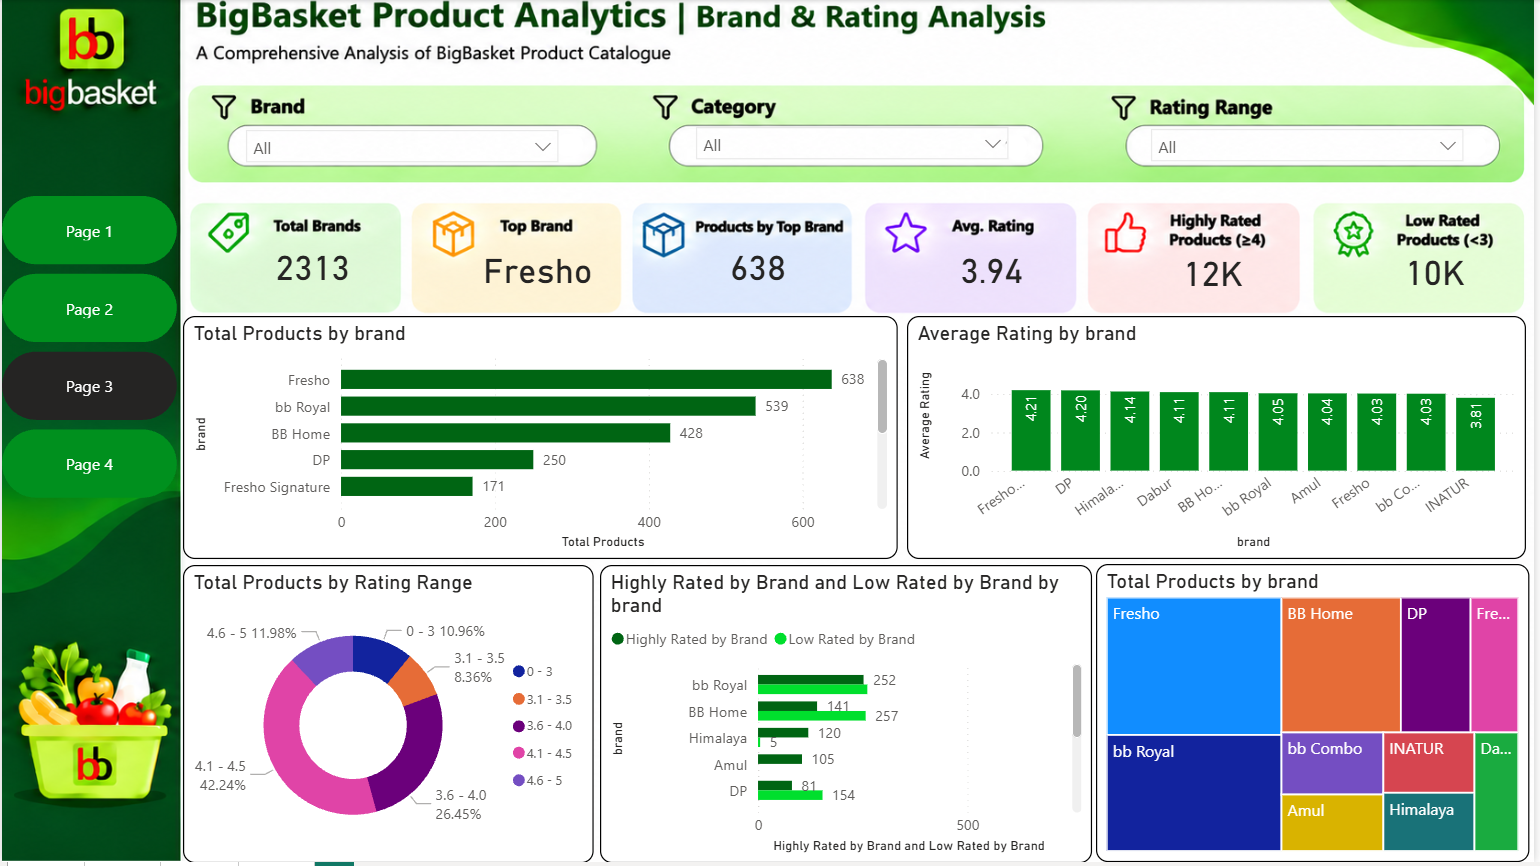

The dashboard page shown, as its layout file describes it:
{"tool":"powerbi","page":{"name":"Page 3","canvas":[1280,720],"ordinal":2},"visuals":[{"type":"card","fields":{"Values":["DAX_Measures.Total Brands"]},"box":[202.1,194.9,115,54.9],"z":0},{"type":"card","fields":{"Values":["DAX_Measures.Low Rated Products"]},"box":[1139,201.1,115,48.7],"z":1000},{"type":"card","fields":{"Values":["DAX_Measures.Top Brand"]},"box":[389.7,196.9,115,54.9],"z":2000},{"type":"card","fields":{"Values":["DAX_Measures.Products by Top Brand"]},"box":[574.2,194.9,115,54.9],"z":3000},{"type":"card","fields":{"Values":["DAX_Measures.Average Rating"]},"box":[769,196.9,115,54.9],"z":4000},{"type":"card","fields":{"Values":["DAX_Measures.Highly Rated Products"]},"box":[953.5,203.1,115,47.7],"z":5000},{"type":"clusteredBarChart","fields":{"Category":["Products.brand"],"Y":["DAX_Measures.Total Products"]},"box":[151.3,264.3,597,203.1],"z":6000},{"type":"clusteredColumnChart","fields":{"Category":["Products.brand"],"Y":["DAX_Measures.Average Rating"]},"box":[755.6,264.3,517.2,203.1],"z":7000},{"type":"treemap","fields":{"Group":["Products.brand"],"Values":["DAX_Measures.Total Products"]},"box":[914.1,471.3,361.7,248.7],"z":8000},{"type":"clusteredBarChart","fields":{"Category":["Products.brand"],"Y":["DAX_Measures.Highly Rated by Brand","DAX_Measures.Low Rated by Brand"]},"box":[499.6,471.6,411.5,248.7],"z":9000},{"type":"donutChart","fields":{"Category":["Products.Rating Range"],"Y":["DAX_Measures.Total Products"]},"box":[151.3,471.6,343.1,248.7],"z":10000},{"type":"shape","box":[462.3,111.9,23.8,18.7],"z":10001},{"type":"shape","box":[1215.7,113,23.8,18.7],"z":10002},{"type":"shape","box":[838.5,113,17.6,20.7],"z":10003},{"type":"slicer","fields":{"Values":["Products.Rating Range"]},"box":[949.4,97.4,280.9,43.5],"z":10004},{"type":"slicer","fields":{"Values":["Products.category"]},"box":[570,96.4,280.9,43.5],"z":10005},{"type":"slicer","fields":{"Values":["Products.brand"]},"box":[193.8,98.5,280.9,47.7],"z":10006},{"type":"pageNavigator","box":[0,163.8,146.1,253.9],"z":10007}]}

Visuals, with their boxes on the page's 1280x720 design canvas (x1, y1, x2, y2). These are canvas units, not pixel positions in the 1540x866 screenshot, which may show the page scaled, cropped or inside an application window:
card - DAX_Measures.Total Brands: l=202, t=195, r=317, b=250
card - DAX_Measures.Low Rated Products: l=1139, t=201, r=1254, b=250
card - DAX_Measures.Top Brand: l=390, t=197, r=505, b=252
card - DAX_Measures.Products by Top Brand: l=574, t=195, r=689, b=250
card - DAX_Measures.Average Rating: l=769, t=197, r=884, b=252
card - DAX_Measures.Highly Rated Products: l=954, t=203, r=1068, b=251
clusteredBarChart - Products.brand x DAX_Measures.Total Products: l=151, t=264, r=748, b=467
clusteredColumnChart - Products.brand x DAX_Measures.Average Rating: l=756, t=264, r=1273, b=467
treemap - Products.brand x DAX_Measures.Total Products: l=914, t=471, r=1276, b=720
clusteredBarChart - Products.brand x DAX_Measures.Highly Rated by Brand: l=500, t=472, r=911, b=720
donutChart - Products.Rating Range x DAX_Measures.Total Products: l=151, t=472, r=494, b=720
shape: l=462, t=112, r=486, b=131
shape: l=1216, t=113, r=1240, b=132
shape: l=838, t=113, r=856, b=134
slicer - Products.Rating Range: l=949, t=97, r=1230, b=141
slicer - Products.category: l=570, t=96, r=851, b=140
slicer - Products.brand: l=194, t=98, r=475, b=146
pageNavigator: l=0, t=164, r=146, b=418
